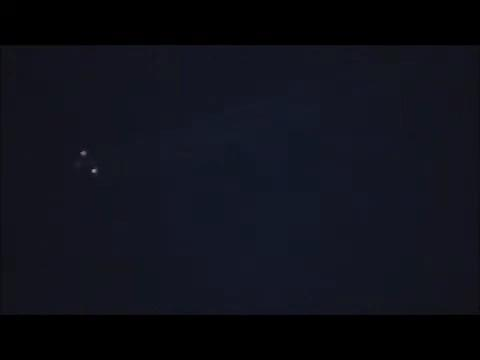Plane: (58, 136, 115, 187)
